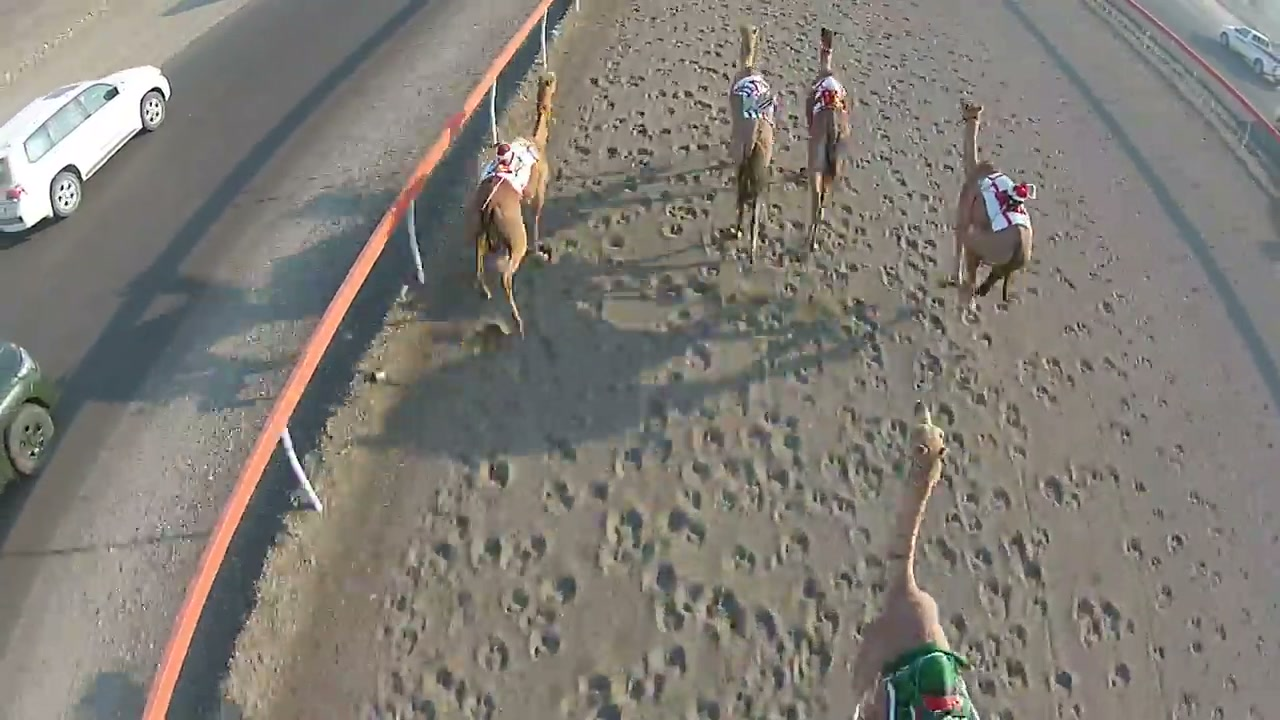animal_footprint: (228, 0, 1279, 719)
